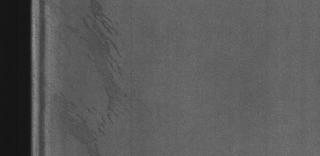water spot: (80, 1, 134, 132), (45, 90, 97, 154)
